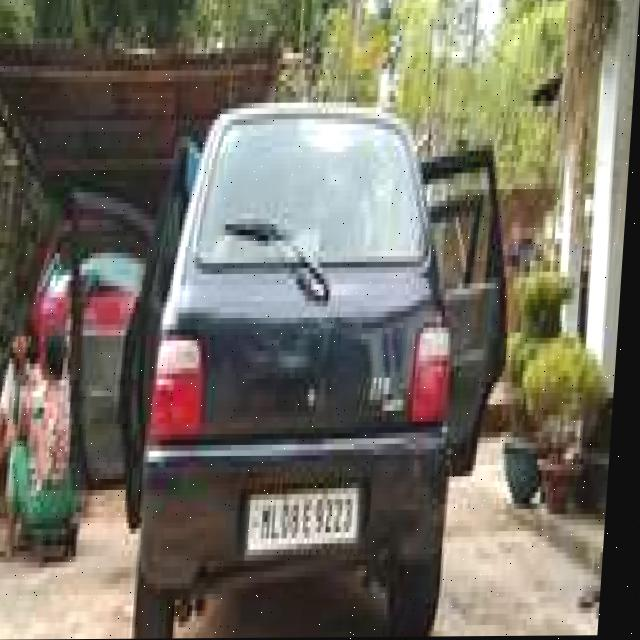plate: (255, 488, 369, 554)
